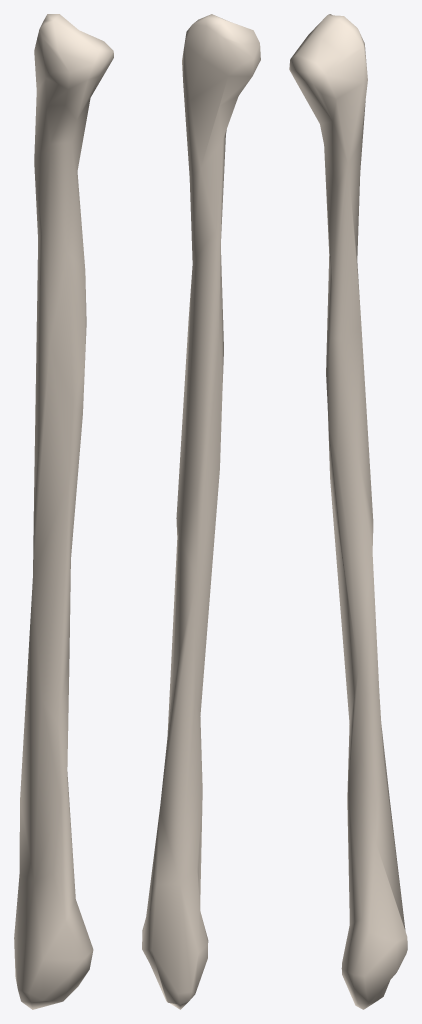
The model's file is right_fibula.glb.
3 renders of one model, left to right at view 1: azimuth 90°, elevation 25°; view 2: azimuth 150°, elevation 25°; view 3: azimuth 330°, elevation 25°, orthographic.
Visible parts, largest first — view 1: Fibula.r; view 2: Fibula.r; view 3: Fibula.r.
Part boxes in pixels (x1,y1,x2,y2): Fibula.r: (14, 14, 113, 1009); Fibula.r: (142, 14, 260, 1009); Fibula.r: (289, 14, 407, 1009).
Size of the model in its own units: 0.0347 by 0.3601 by 0.0324.
